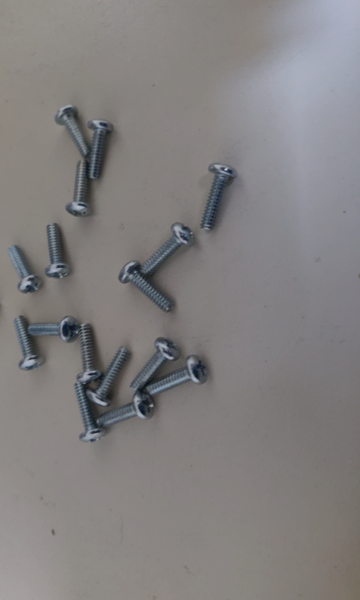shortscrew: (118, 259, 176, 313), (141, 223, 195, 275), (130, 337, 181, 392), (87, 347, 132, 407), (147, 355, 208, 398), (200, 163, 238, 231), (96, 392, 155, 427), (54, 104, 91, 158), (74, 384, 107, 444), (13, 315, 45, 371), (8, 245, 43, 294), (65, 159, 93, 218), (87, 119, 114, 180), (77, 323, 103, 384), (28, 317, 80, 344), (45, 224, 70, 279)
